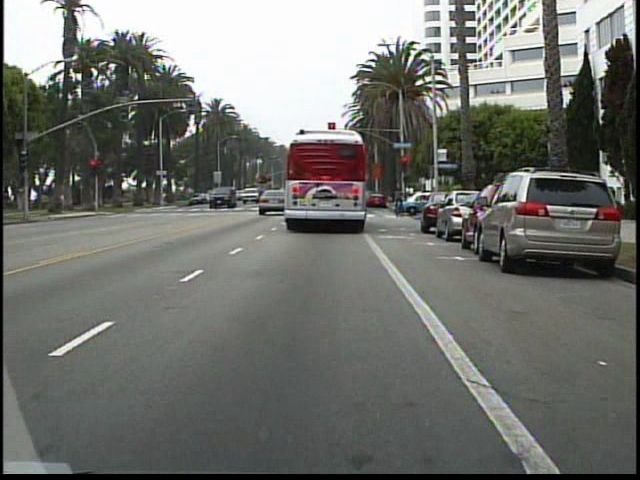person: (388, 184, 407, 216)
